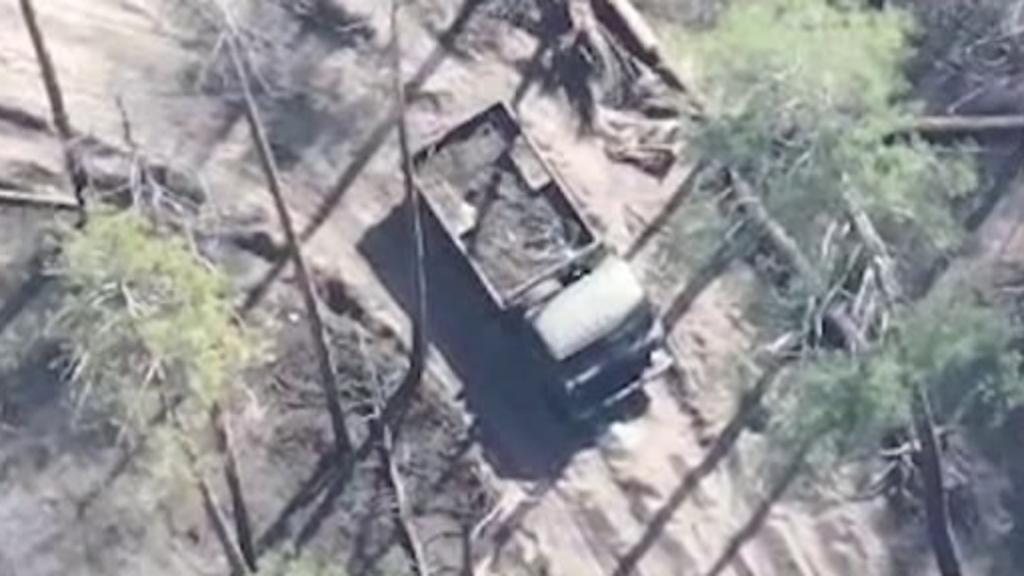TRUCK: (394, 99, 674, 425)
